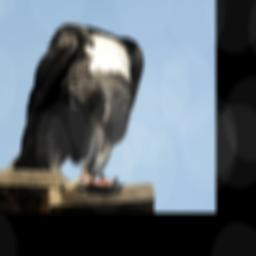Crow: (4, 16, 149, 196)
